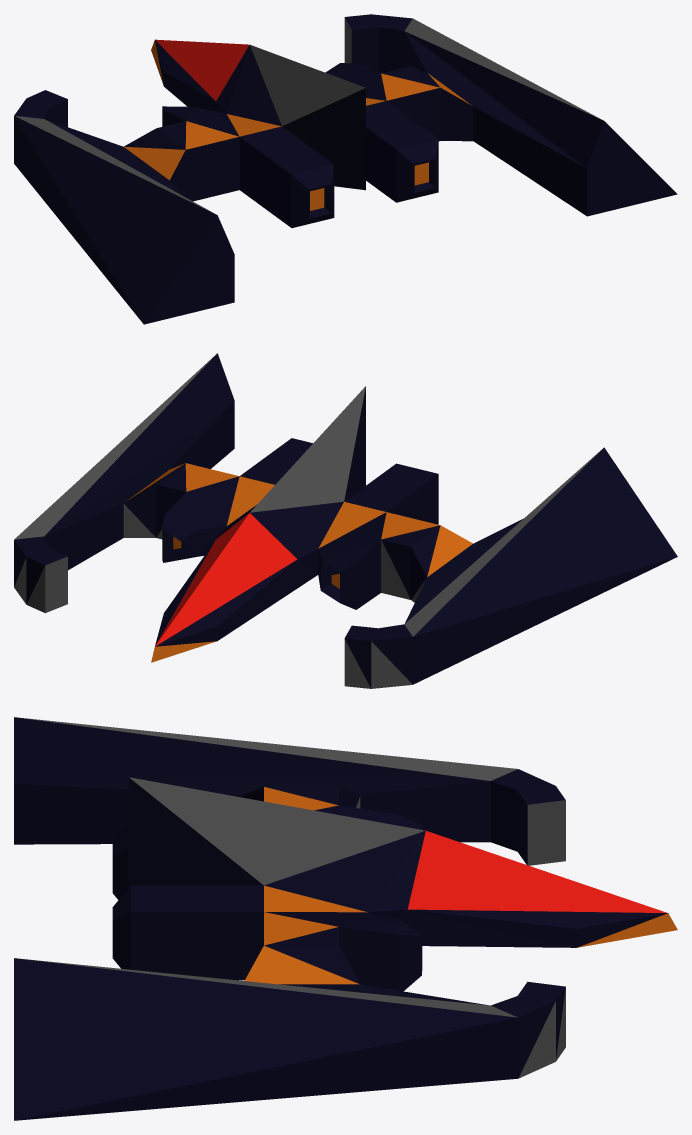
File: Bombardier.obj
3 views of the same model, one above another, from view 1: azimuth 30°, elevation 25°; view 2: azimuth 150°, elevation 25°; view 3: azimuth 270°, elevation 25° (orthographic). The views are drawn at different scales.
Visible parts, largest first — view 1: Cube.001; view 2: Cube.001; view 3: Cube.001.
Part boxes in pixels (box(x1,y1,x2,y2)): Cube.001: box(14, 14, 677, 324); Cube.001: box(14, 353, 677, 688); Cube.001: box(14, 717, 677, 1120).
Bounding box in the file's own units: 20.94 × 5.2 × 17.65.
